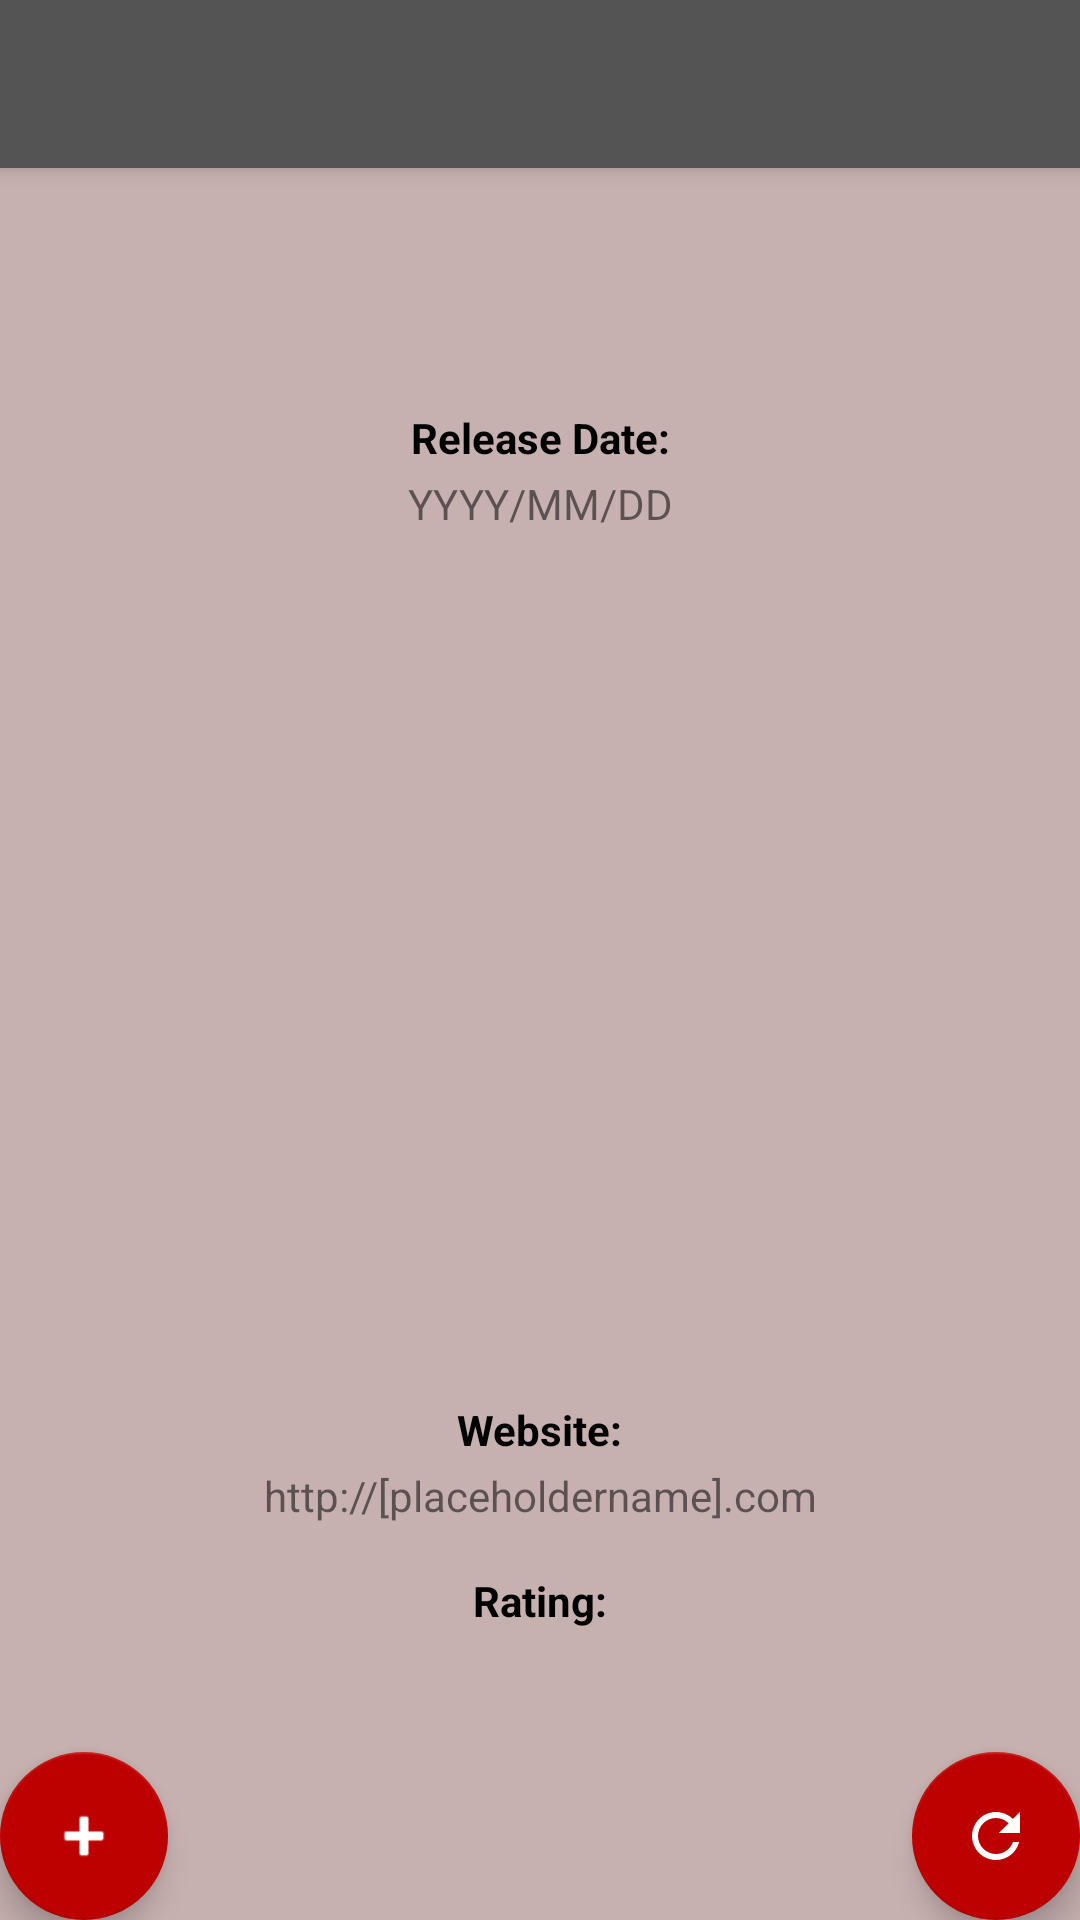

Icon bounding boxes for this 1080 × 1920 phone screenshot, format (x1, y1, x2, y2):
add: (0, 1752, 168, 1920)
refresh: (912, 1752, 1080, 1920)
